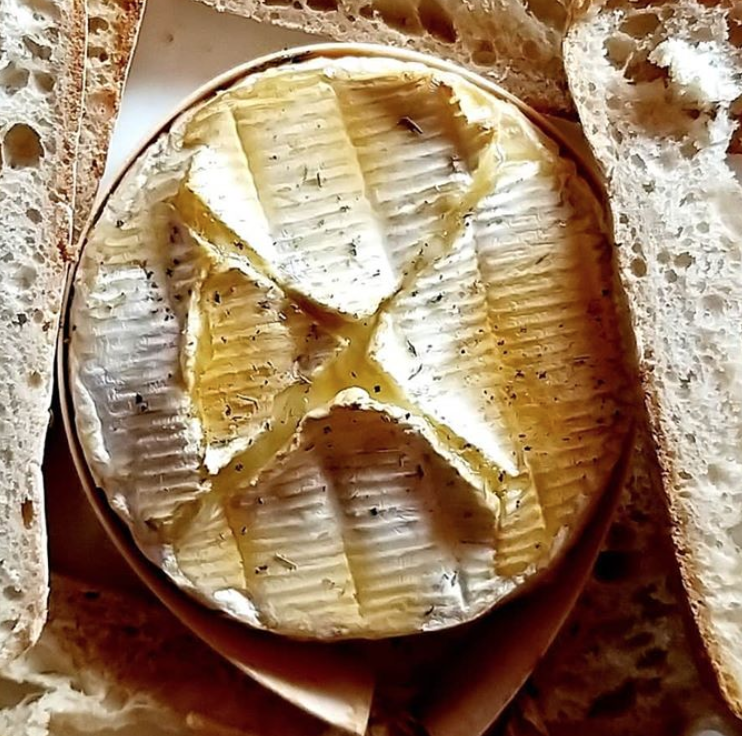camembert: (59, 51, 634, 645)
